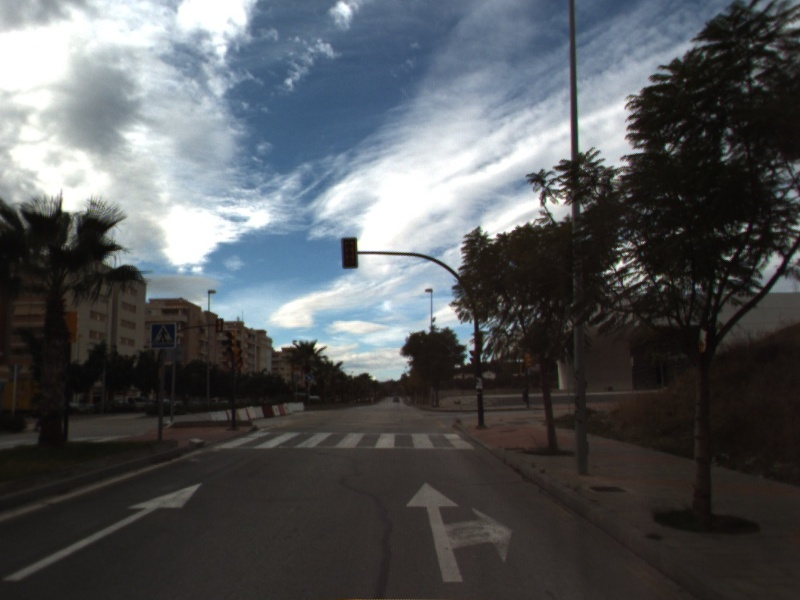STRAIGHT: (2, 481, 205, 583)
STRAIGHT_RIGHT: (403, 479, 515, 584)
